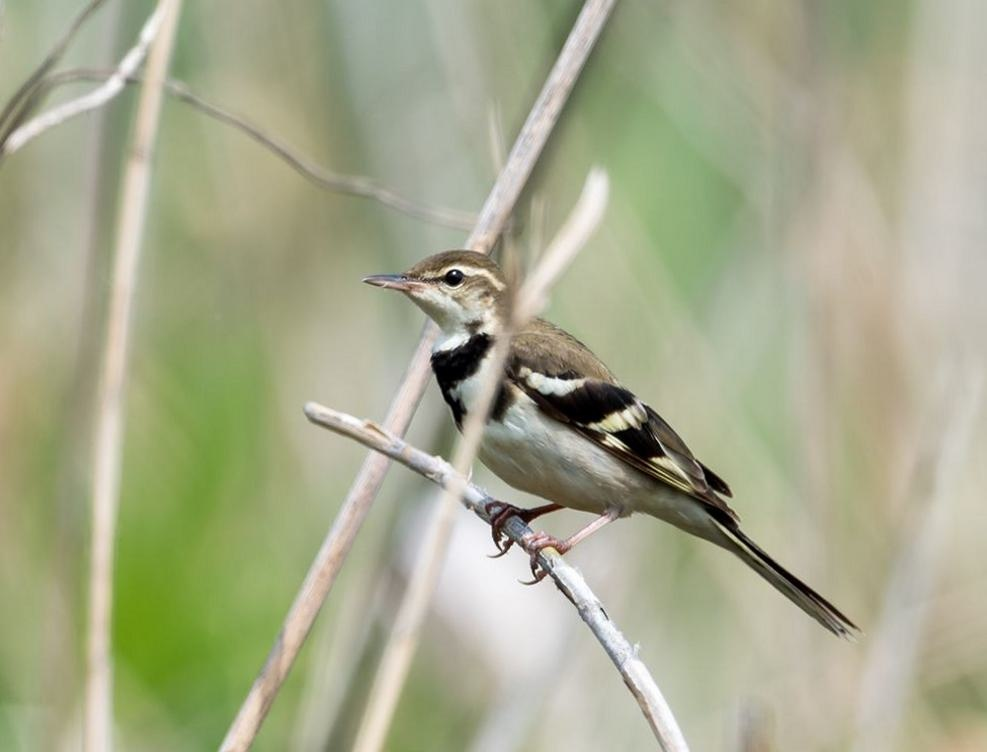wagtail: (363, 251, 910, 630)
